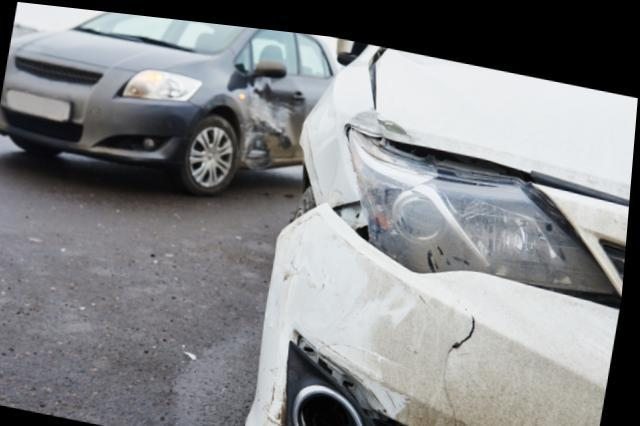crack: (448, 288, 481, 426)
dent: (249, 81, 302, 161), (347, 101, 384, 127)
lamp broken: (350, 120, 618, 284)
scratch: (267, 359, 295, 426)
